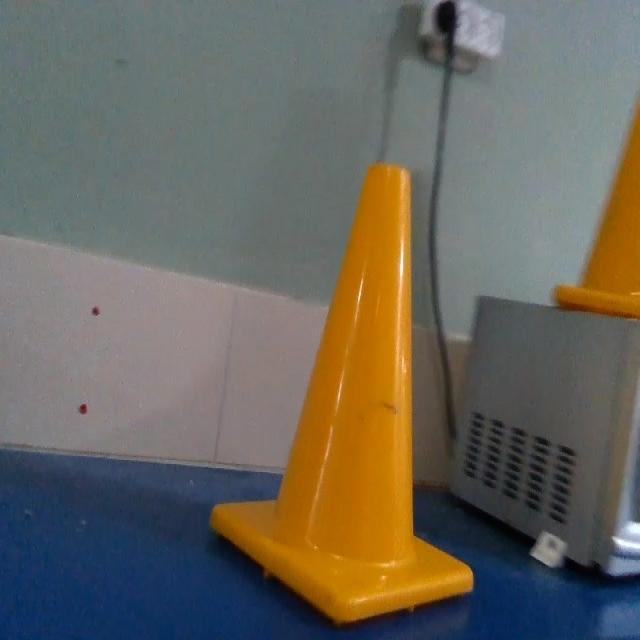cone: (209, 162, 473, 628), (551, 84, 640, 320)
